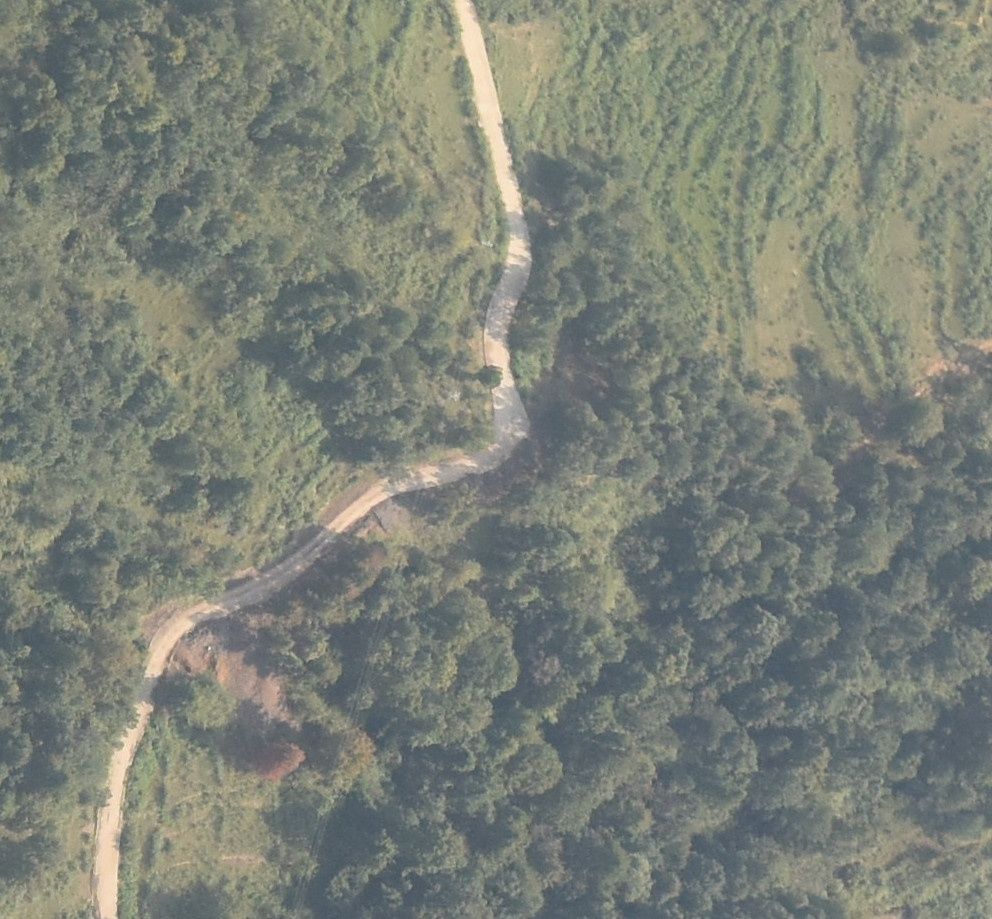cable-tower: (479, 238, 497, 248)
